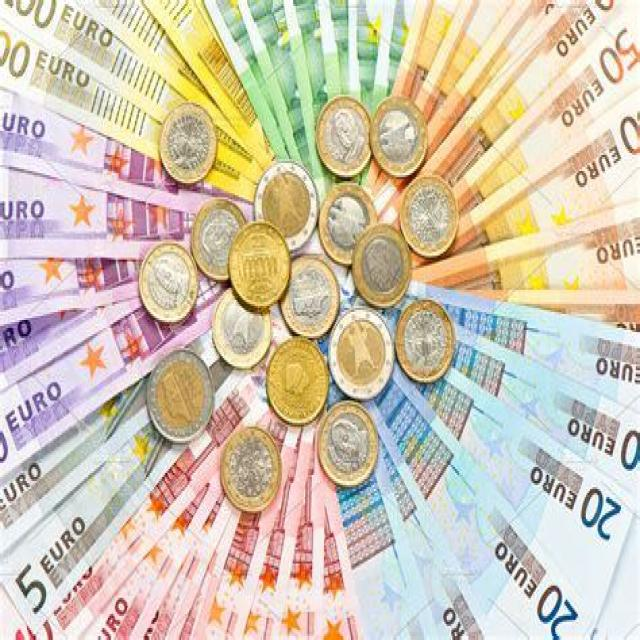banknote: (568, 480, 629, 549), (524, 572, 584, 640), (10, 560, 58, 624), (591, 27, 640, 86)
